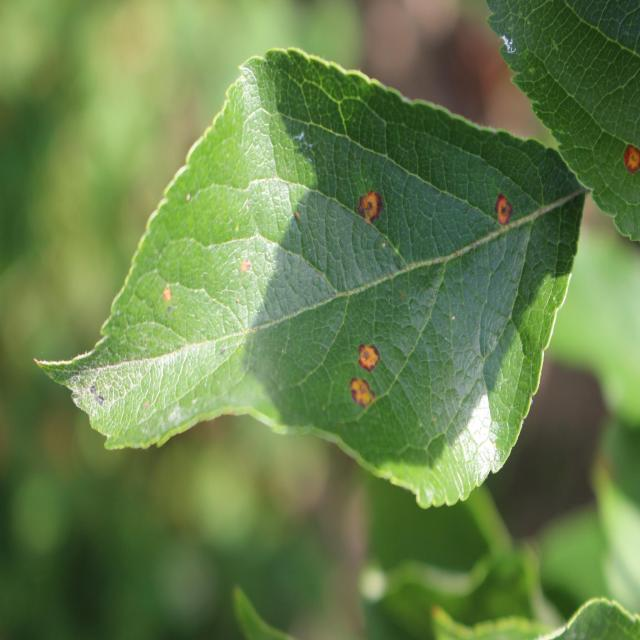Rust: (329, 371, 384, 419), (352, 325, 393, 380), (346, 188, 386, 230), (617, 131, 640, 194), (491, 186, 520, 235), (233, 248, 260, 282), (156, 274, 182, 306)
